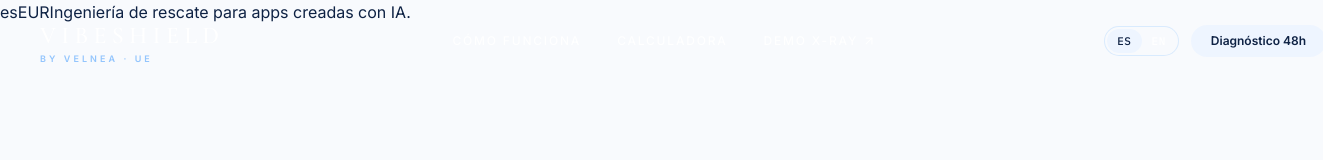
Test case: LocaleContext, Navbar, and Footer › tolerates SecurityError when localStorage.getItem and setItem throw
This screenshot has width=1323, height=160.
Expected: the text with test id "probe-locale" reads "es", [0,2,18,22]
Click the button "EN" at (1159, 41), box [1142,29,1176,53]
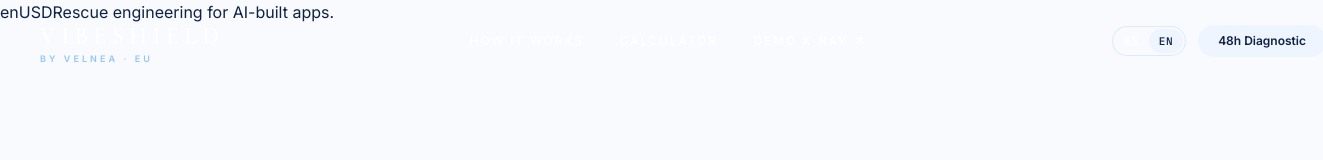
Now the text with test id "probe-locale" reads "en", box [0,2,19,22]
Now the text with test id "probe-currency" reads "USD", box [19,2,52,22]
